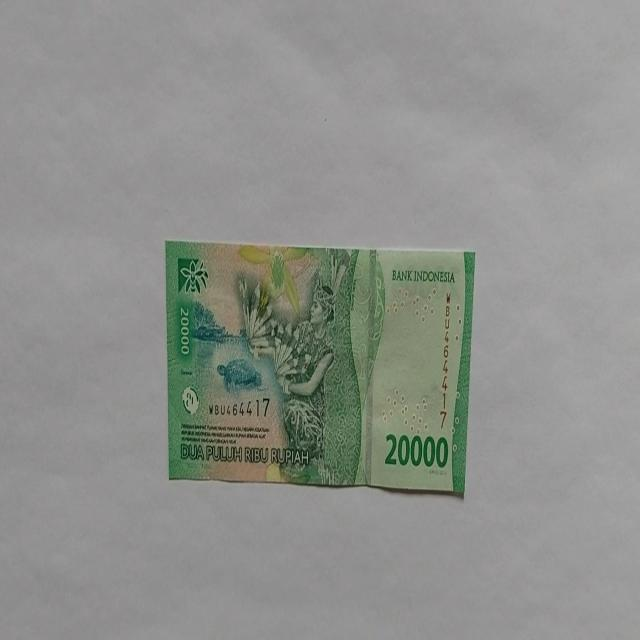dua puluh ribu rupiah: (164, 240, 476, 498)
